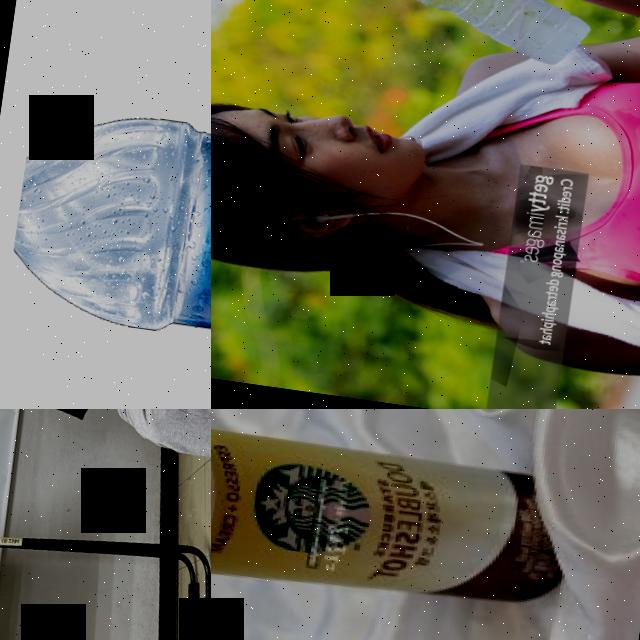bottle: (4, 92, 211, 395), (307, 0, 604, 72)
can: (211, 409, 581, 627)
